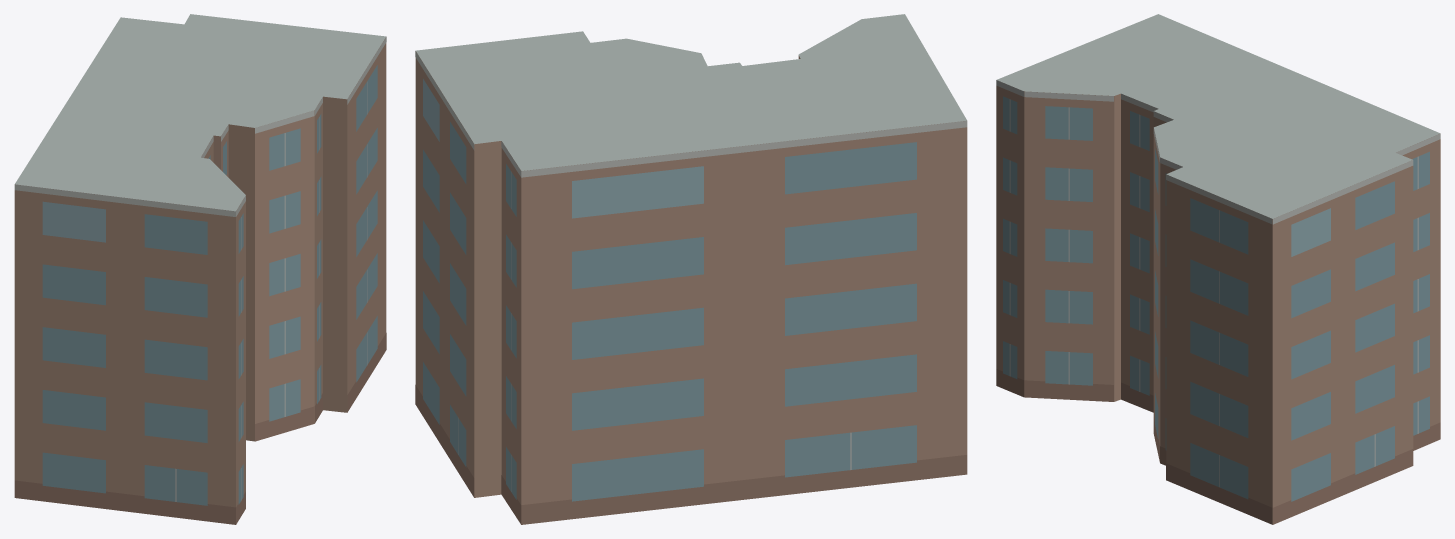
The model's file is survey-upis-32655619.glb.
The picture shows the model from 3 angles, left to right: view 1: azimuth 30°, elevation 25°; view 2: azimuth 150°, elevation 25°; view 3: azimuth 270°, elevation 25°; orthographic projection. The views are drawn at different scales.
Parts seen in each view (by area): view 1: survey-upis-32655619.tmp; view 2: survey-upis-32655619.tmp; view 3: survey-upis-32655619.tmp.
Boxes of the visible parts, <box> form: survey-upis-32655619.tmp: <box>14,14,386,524</box>; survey-upis-32655619.tmp: <box>415,14,967,524</box>; survey-upis-32655619.tmp: <box>996,14,1440,524</box>.
Size of the model in its own units: 18.9 by 13.15 by 17.31.
